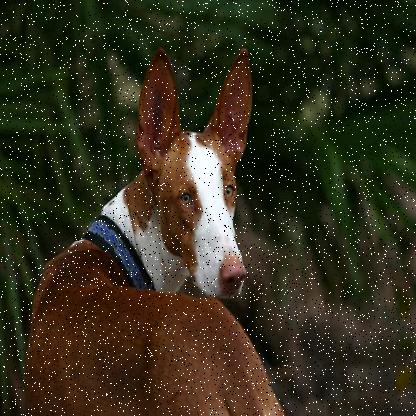dog: (37, 35, 298, 415)
